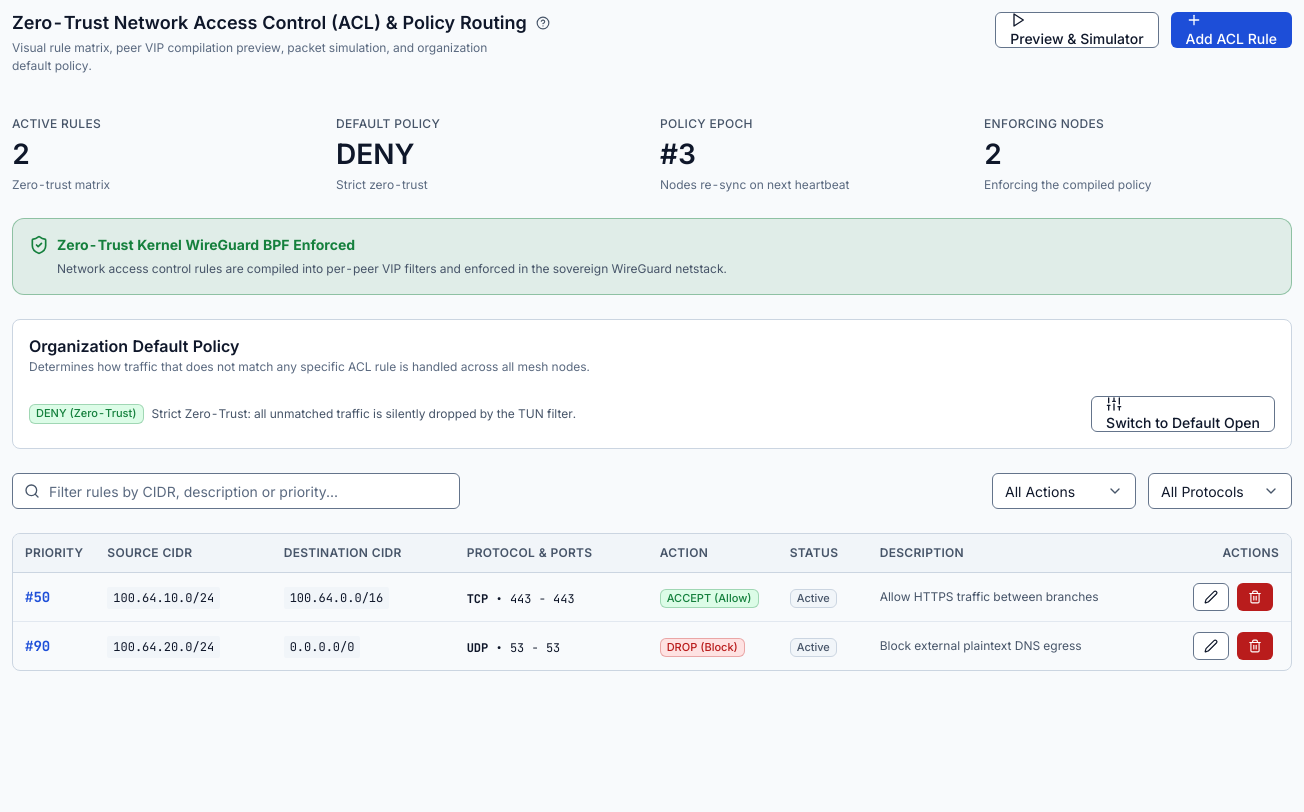
Test: WP-407: AclsRoute (Visual ACL Rule Editor, Policy Routing & Organization Default Policy) › 2. Filters rules list via search input and action filter
Expected: the text "100.64.10.0/24" is shown, [107, 586, 220, 608]
Expected: the text "100.64.20.0/24" is shown, [107, 636, 220, 658]
Type "external" into the field named "filter rules search" at (236, 491), box [12, 473, 460, 509]
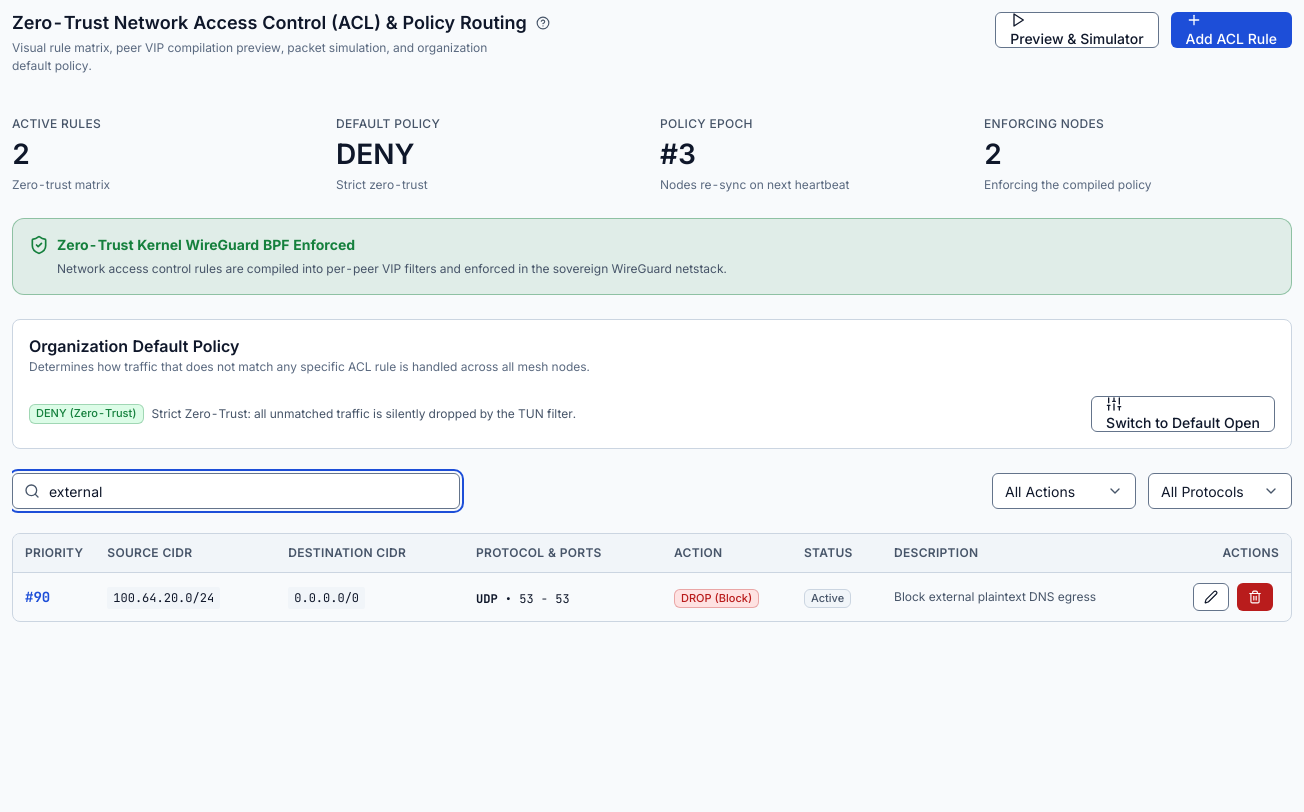
Expected: the text "100.64.20.0/24" is shown, [107, 586, 220, 608]
Expected: the text "100.64.10.0/24" is gone
